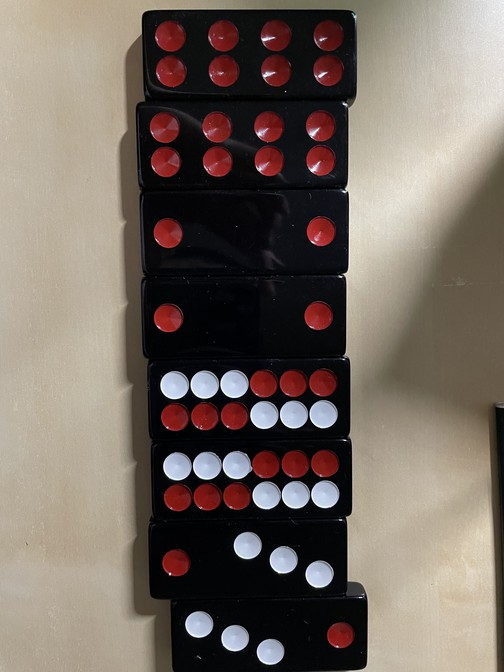earth: (138, 193, 352, 276), (140, 277, 355, 351)
goose: (166, 598, 369, 672), (148, 526, 348, 599)
heaven: (152, 440, 353, 520), (149, 359, 353, 437)
man: (142, 10, 360, 101), (137, 104, 352, 189)
